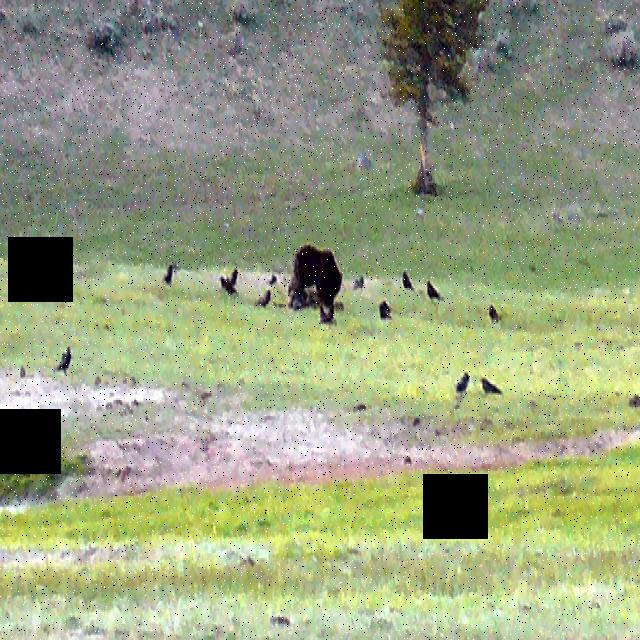Bear: (288, 242, 344, 307)
